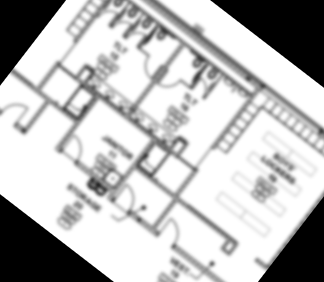door: (155, 215, 189, 248), (58, 132, 91, 165), (112, 181, 145, 214), (0, 94, 31, 126), (136, 53, 164, 82), (155, 69, 183, 96), (123, 25, 148, 51), (96, 3, 120, 28), (109, 15, 133, 40), (191, 76, 214, 99)
wall: (95, 0, 266, 93), (130, 162, 243, 251), (81, 80, 184, 161), (205, 84, 264, 156), (11, 67, 80, 123), (104, 134, 160, 203), (49, 89, 104, 157), (169, 241, 246, 282), (71, 0, 125, 46), (150, 195, 184, 233), (34, 58, 64, 94), (23, 98, 52, 133), (173, 165, 201, 199), (138, 217, 169, 243), (314, 129, 324, 162)
